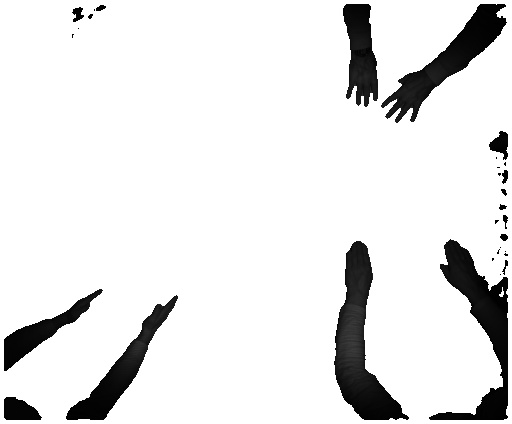hand: (381, 74, 433, 126), (440, 235, 481, 295), (344, 55, 381, 111), (344, 240, 375, 300)
spine: (141, 288, 183, 339), (64, 288, 103, 326)
